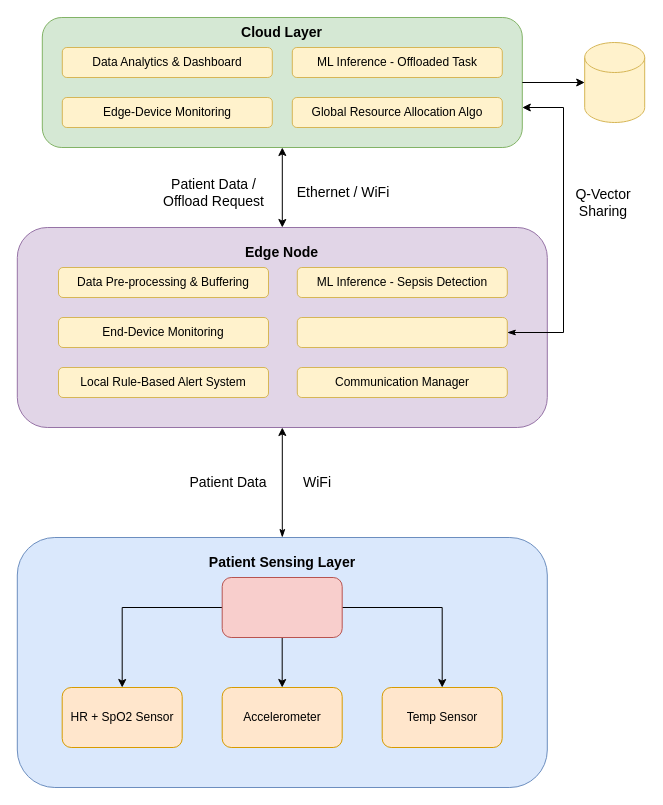
The diagram is 663 pixels wide and 805 high, and some of its shapes have lost their labels. Each missing label, with the centre of its shape:
Local Resource Allocation Algo: (401,332)
Model Repository: (614,82)
Wearable: (281,607)
